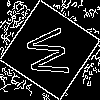W: (25, 25, 79, 80)
